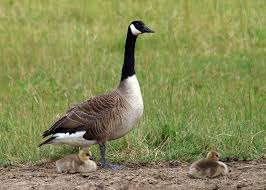goose: (37, 19, 158, 176)
